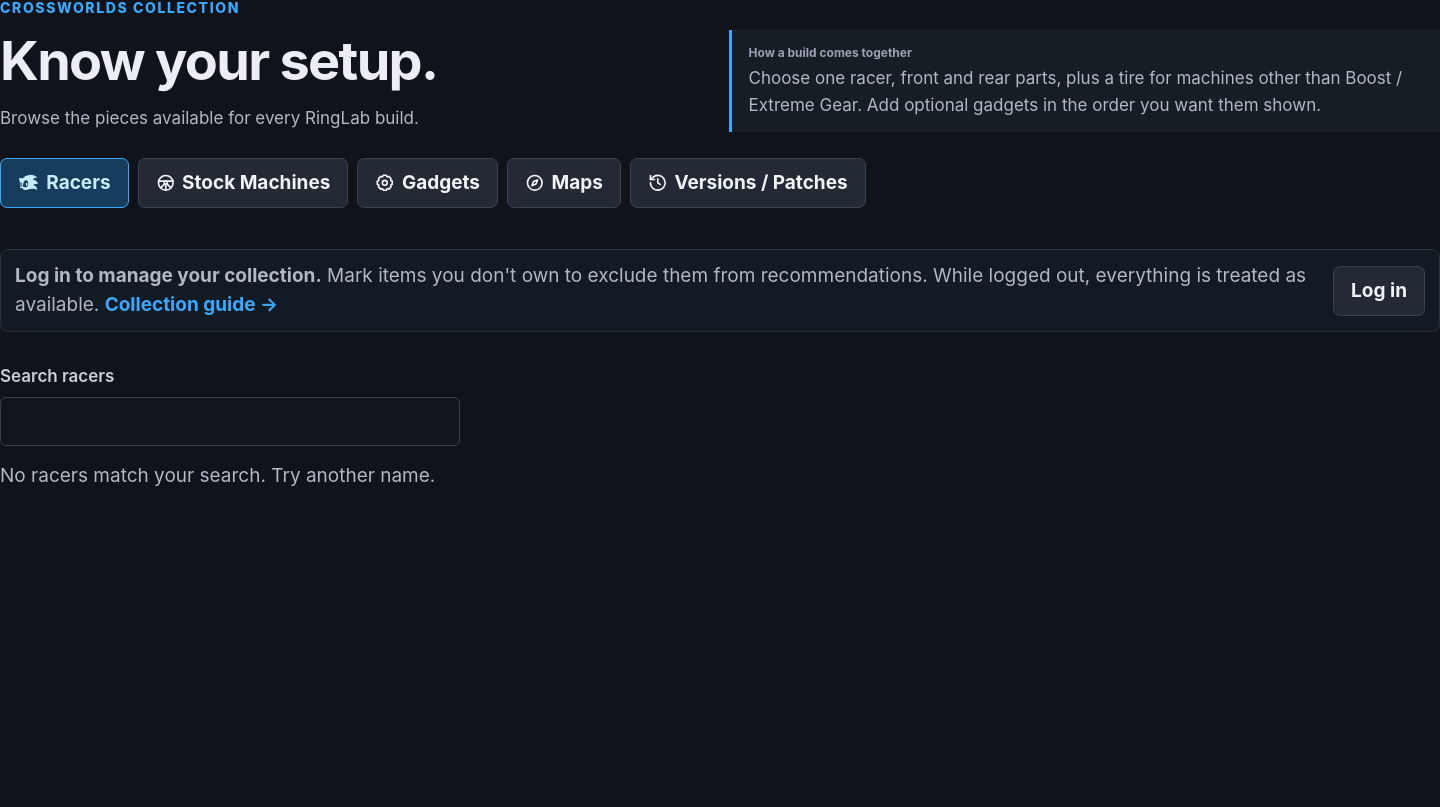
Test: badges only catalog-supported scenarios, including descriptive events and combined conditions
The width and height of the screenshot is (1440, 807).
What coordinates should you click on to do the following:
click the button "Gadgets"
I would click on:
 (428, 183)
Its box is [357,158,498,208].
(page scrolled)
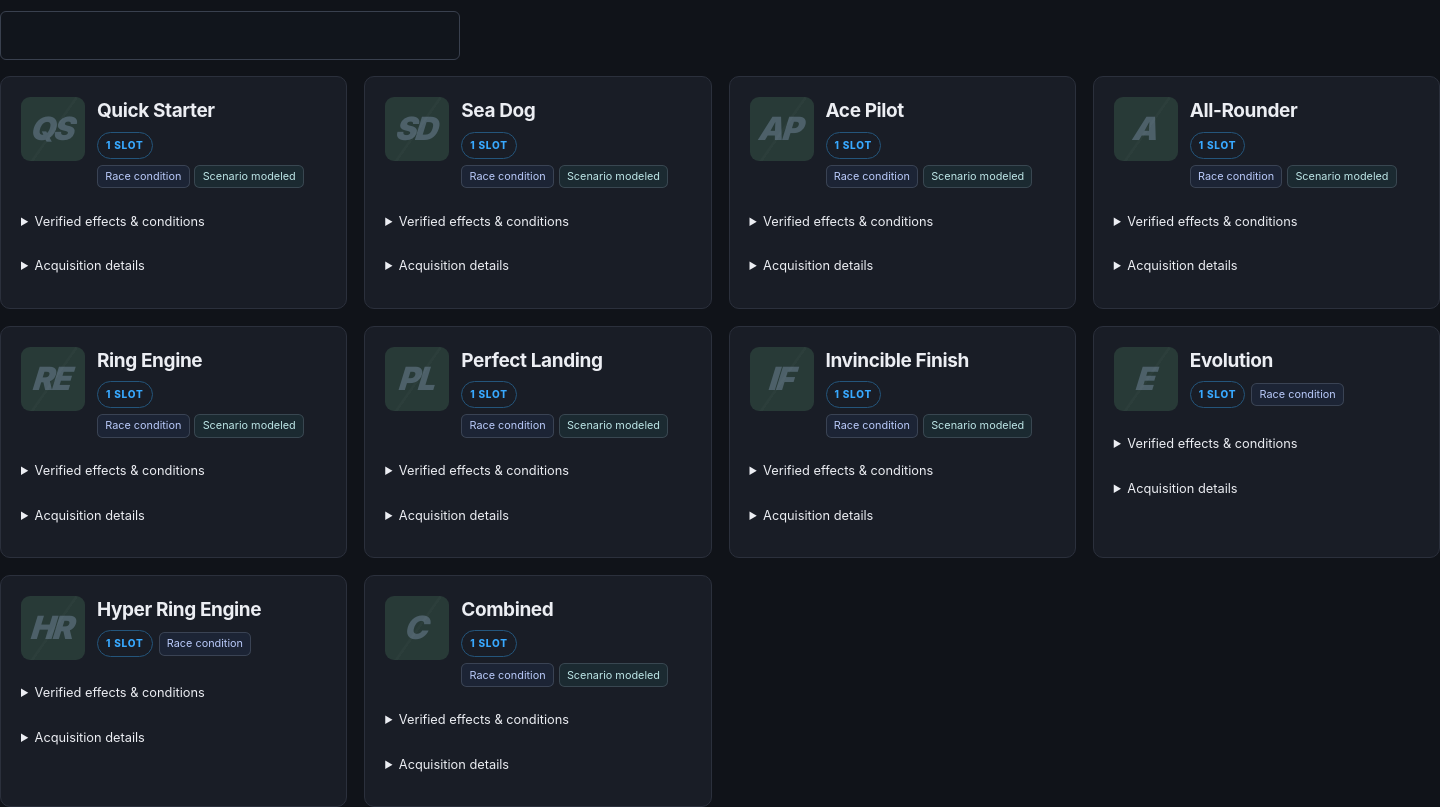
expect the text "Scenario modeled" below "Quick Starter" is shown: met, box [203,169,296,183]
expect the text "Race condition" below "Quick Starter" is shown: met, box [105,169,182,183]
expect the text "Scenario modeled" below "Sea Dog" is shown: met, box [567,169,660,183]
